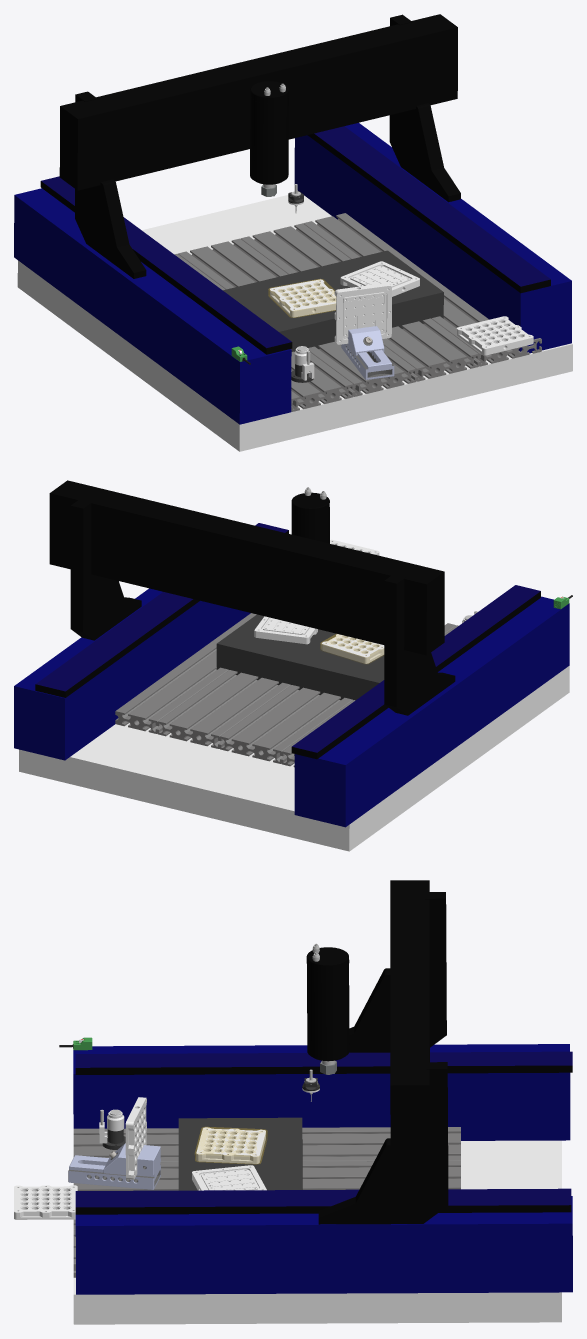
File: vacuum_ex.glb
3 views of the same model, one above another, from view 1: azimuth 30°, elevation 25°; view 2: azimuth 150°, elevation 25°; view 3: azimuth 270°, elevation 25° (orthographic). The views are drawn at different scales.
Visible parts, largest first — view 1: =>0114_4, =>0111_1, =>01120_20, =>0112_2, =>0113_3, =>01122_22, =>01118_18, =>01117_17, =>01119_19, 2_2kw_spindle_2c_28, =>0115_5, =>0116_6 (+7 smaller); view 2: =>0114_4, =>01120_20, =>0111_1, =>0112_2, =>0113_3, =>01122_22, =>01117_17, =>01118_18, =>0116_6, =>0115_5, =>01119_19, 2_2kw_spindle_2c_28 (+3 smaller); view 3: =>0112_2, =>0111_1, =>01120_20, =>0113_3, =>0114_4, =>0116_6, =>01122_22, =>01116_16, =>0115_5, 2_2kw_spindle_2c_28, =>01117_17, =>01125_25 (+5 smaller).
Boxes of the visible parts, x1,y1,x2,y2 form: =>0114_4: (59, 14, 457, 190); =>0111_1: (14, 188, 291, 424); =>01120_20: (17, 195, 572, 451); =>0112_2: (294, 122, 571, 353); =>0113_3: (40, 126, 550, 354); =>01122_22: (223, 250, 443, 351); =>01118_18: (241, 223, 479, 381); =>01117_17: (178, 238, 416, 396); =>01119_19: (303, 213, 541, 366); 2_2kw_spindle_2c_28: (250, 81, 288, 196); =>0115_5: (75, 91, 146, 278); =>0116_6: (389, 14, 460, 202); =>0114_4: (49, 480, 444, 655); =>01120_20: (19, 666, 569, 851); =>0111_1: (294, 596, 569, 827); =>0112_2: (14, 588, 250, 760); =>0113_3: (35, 523, 540, 759); =>01122_22: (216, 614, 384, 700); =>01117_17: (219, 623, 455, 763); =>01118_18: (157, 670, 290, 748); =>0116_6: (70, 498, 141, 640); =>0115_5: (384, 574, 455, 715); =>01119_19: (115, 613, 256, 733); 2_2kw_spindle_2c_28: (291, 487, 329, 543); =>0112_2: (75, 1196, 572, 1294); =>0111_1: (73, 1044, 570, 1140); =>01120_20: (73, 1140, 561, 1324); =>0113_3: (75, 1051, 572, 1214); =>0114_4: (390, 880, 429, 1163); =>0116_6: (318, 1062, 448, 1224); =>01122_22: (178, 1117, 302, 1190); =>01116_16: (73, 1127, 460, 1161); =>0115_5: (349, 892, 446, 1052); 2_2kw_spindle_2c_28: (306, 943, 349, 1074); =>01117_17: (73, 1160, 460, 1190); =>01125_25: (68, 1143, 160, 1189).
Size of the model in its own units: 0.9103 by 0.5728 by 1.05.
